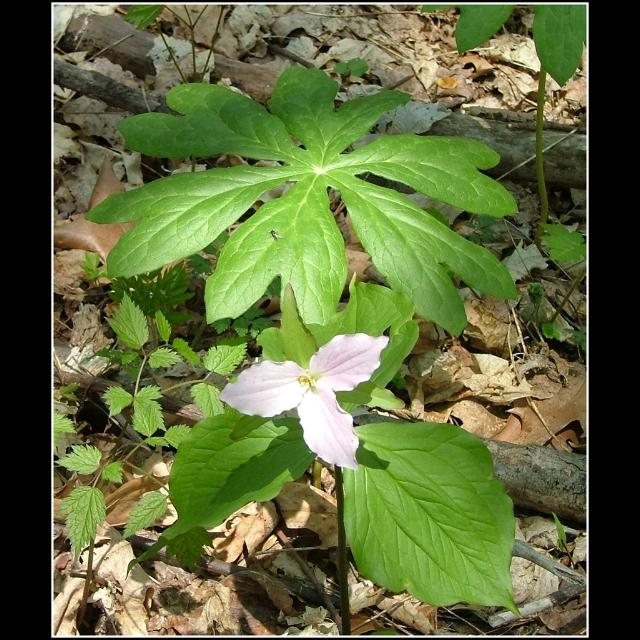Flower: (255, 332, 382, 482)
